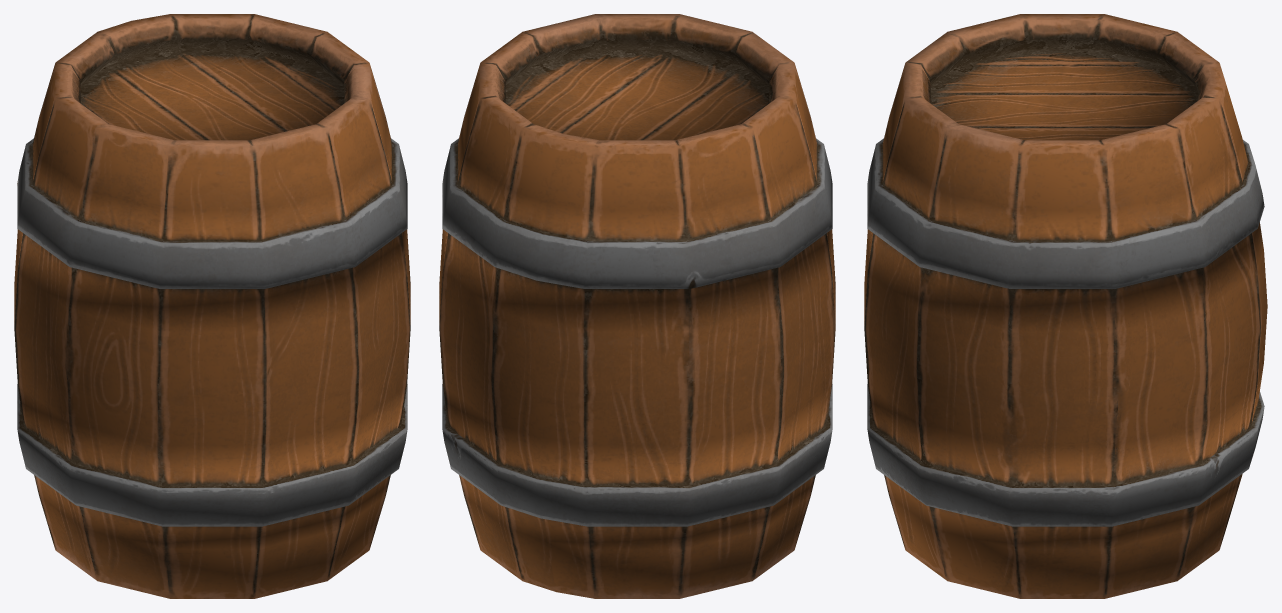
The model's file is stylized-barrel-low.gltf.
The picture shows the model from 3 angles, left to right: view 1: azimuth 30°, elevation 25°; view 2: azimuth 150°, elevation 25°; view 3: azimuth 270°, elevation 25°; orthographic projection.
Parts seen in each view (by area): view 1: barrel_low; view 2: barrel_low; view 3: barrel_low.
Part boxes in pixels (bbox=[...]): barrel_low: bbox=[14, 14, 410, 598]; barrel_low: bbox=[439, 14, 835, 598]; barrel_low: bbox=[864, 14, 1267, 598].
Bounding box in the file's own units: 0.5182 × 0.6525 × 0.5274.
1 material, 1 textured.
